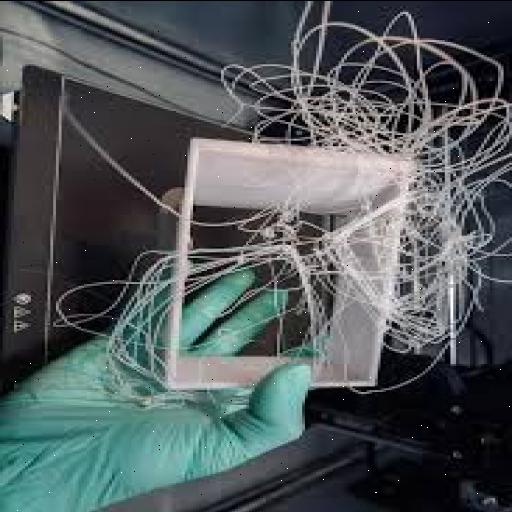spaghetti: (246, 44, 504, 376)
